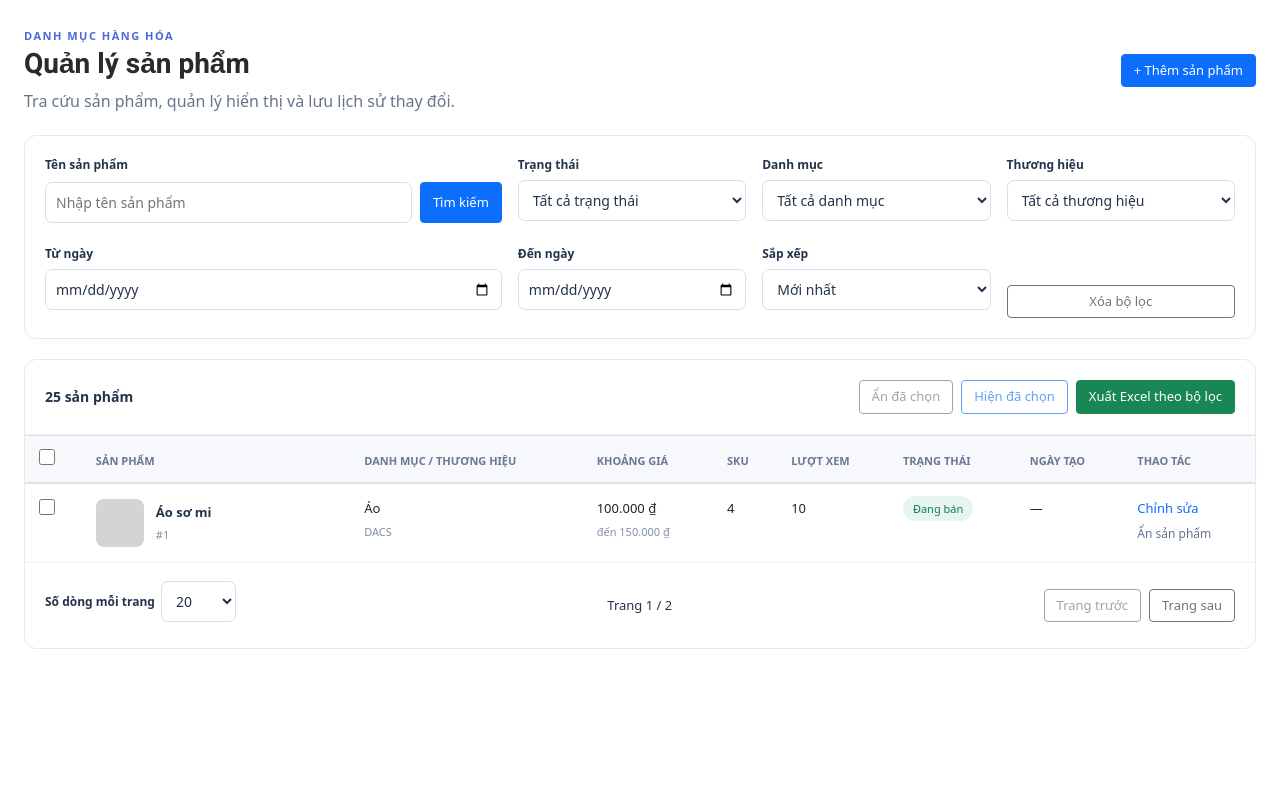
Excel uses the current filters, paged safe metadata and rejects excessive catalogs
Expected: the link "Áo sơ mi" is shown, x1=156 y1=503 x2=212 y2=522
Select "DACS" in the dropdown labelled "Thương hiệu". click: (1121, 201)
box: x1=1007 y1=180 x2=1235 y2=221
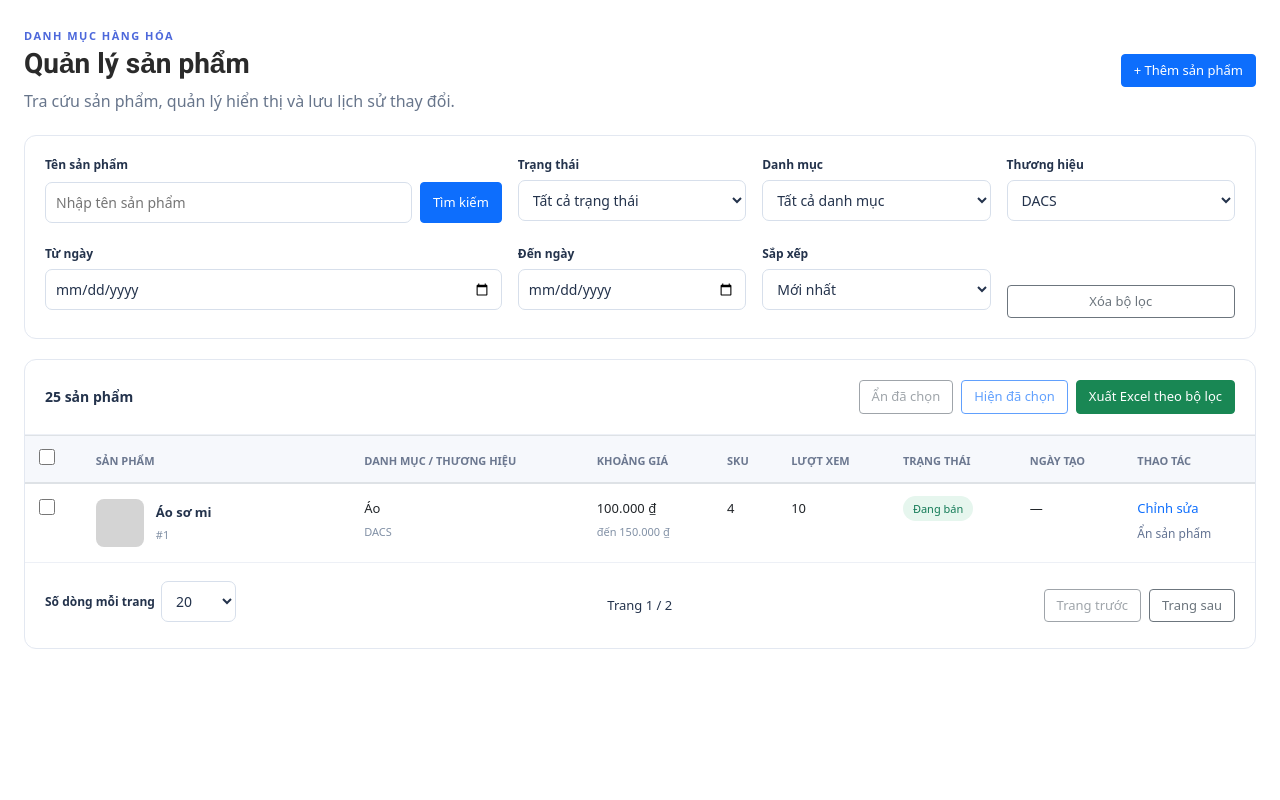
Expected: the link "Áo sơ mi" is shown, x1=156 y1=503 x2=212 y2=522
Click the button "Xuất Excel theo bộ lọc". click: click(1155, 397)
box: x1=1076 y1=380 x2=1235 y2=414
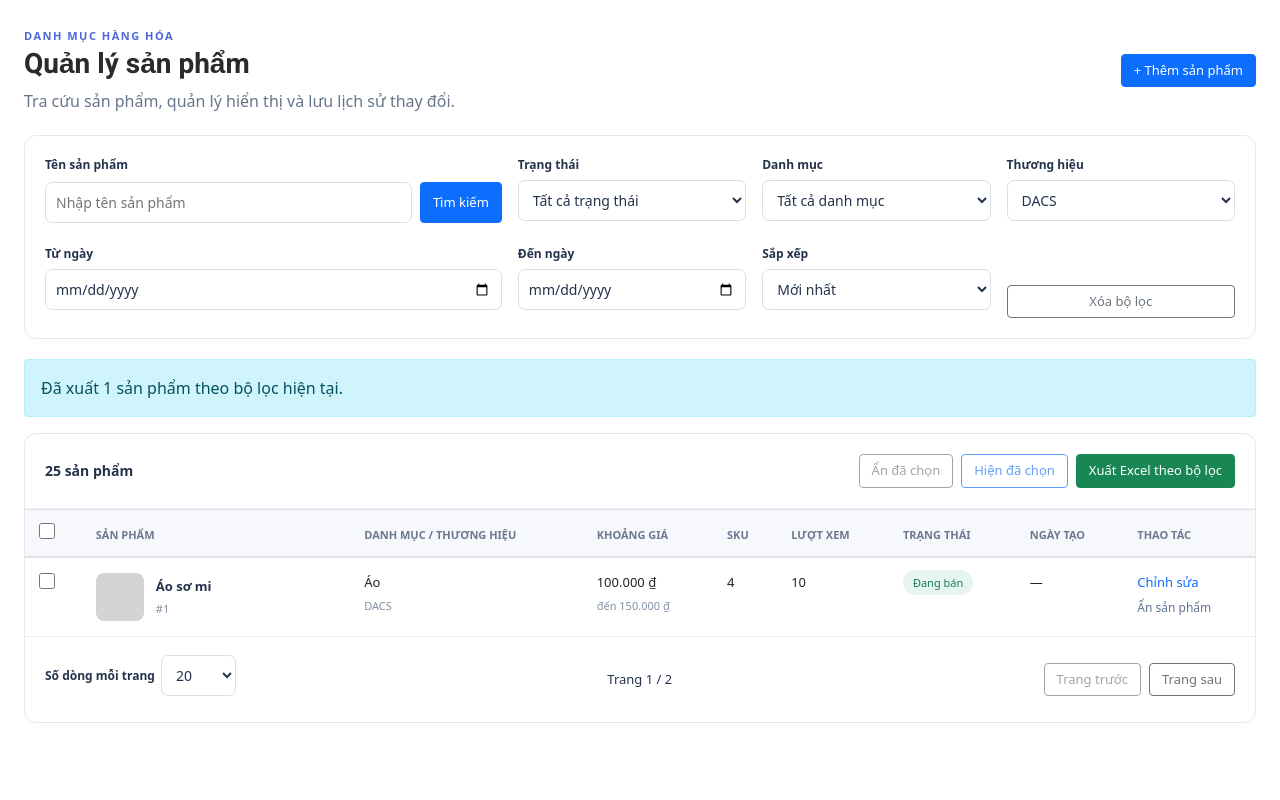
Click the button "Xóa bộ lọc". click: click(1121, 301)
box: x1=1007 y1=285 x2=1235 y2=318
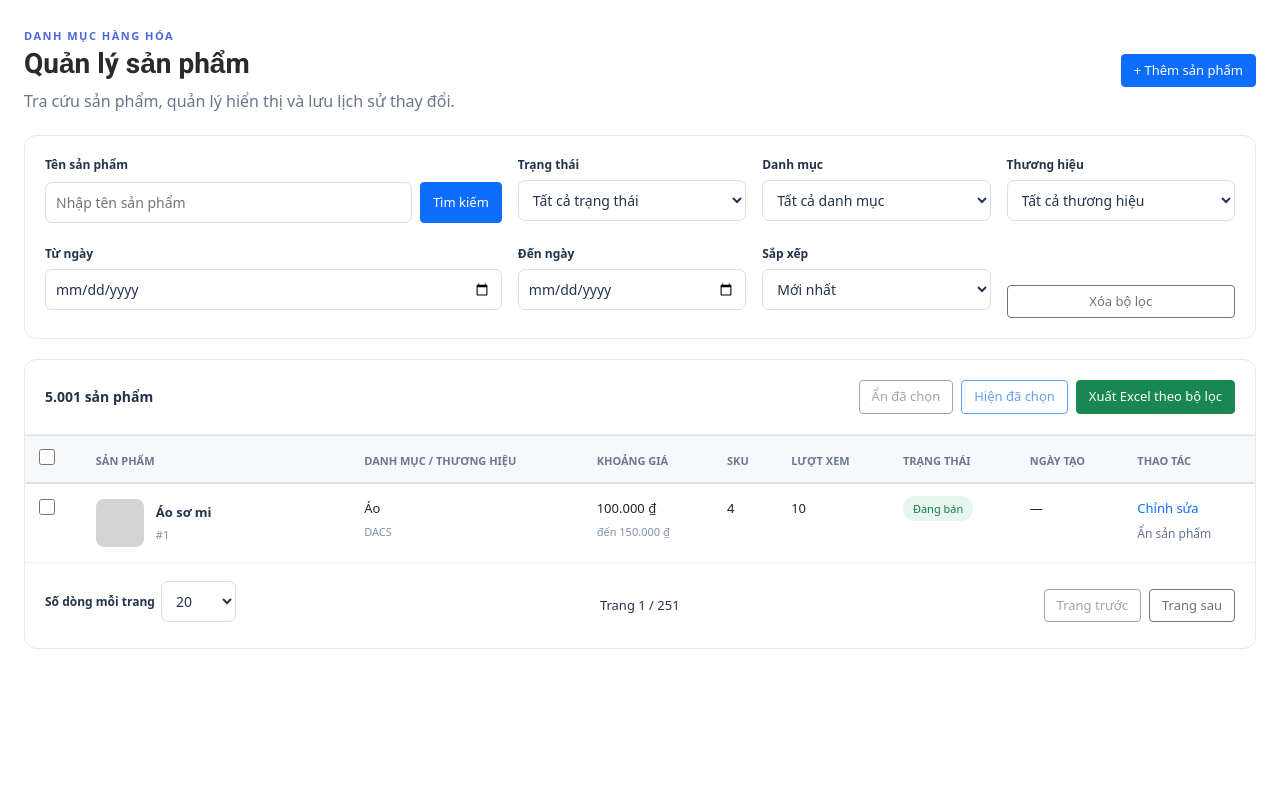
Expected: the text "5.001 sản phẩm" is shown, x1=45 y1=387 x2=153 y2=406
Click the button "Xuất Excel theo bộ lọc". click: click(1155, 397)
box: x1=1076 y1=380 x2=1235 y2=414
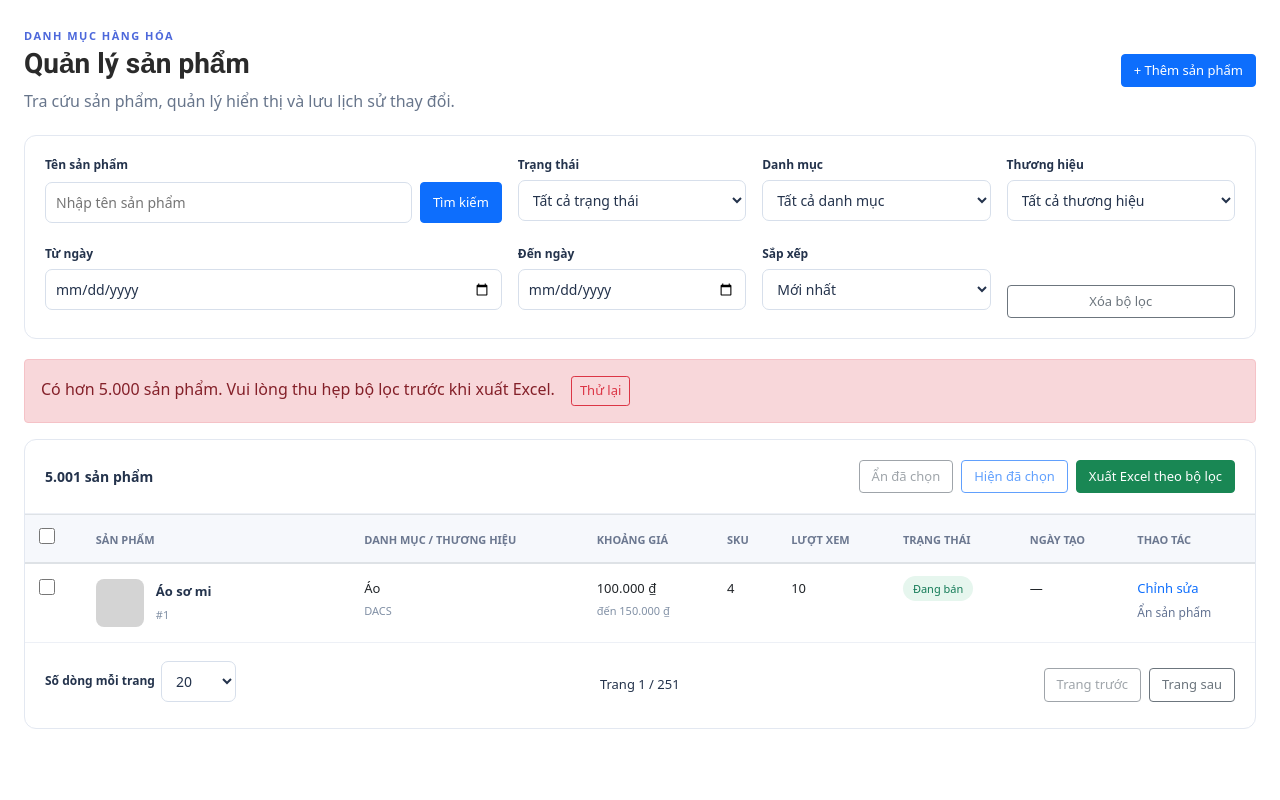
Expected: the message shows "thu hẹp bộ lọc", x1=41 y1=378 x2=555 y2=400
